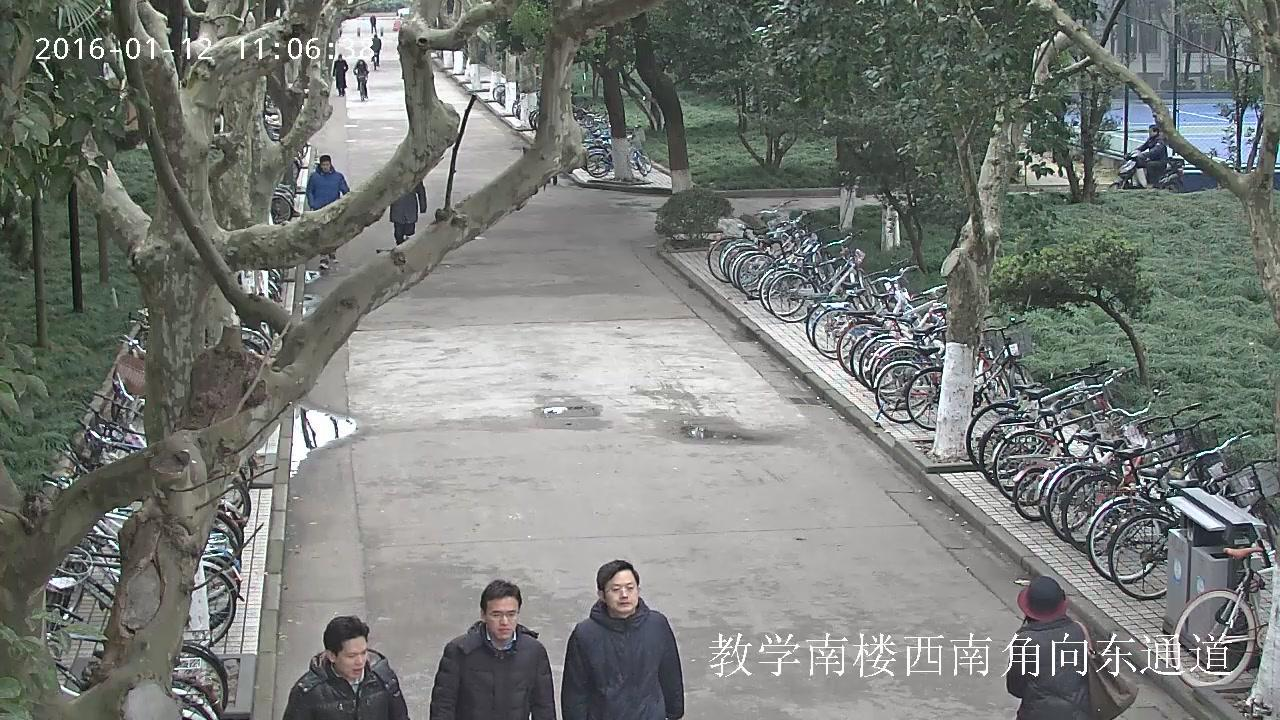person: (561, 559, 683, 720), (1006, 576, 1139, 720), (430, 580, 556, 720), (281, 615, 409, 720), (1107, 124, 1185, 193), (305, 155, 349, 269), (389, 180, 426, 244), (1134, 124, 1168, 188), (332, 54, 348, 96), (352, 59, 368, 101), (352, 59, 369, 96), (370, 34, 381, 69), (370, 34, 381, 64), (370, 15, 375, 33)
